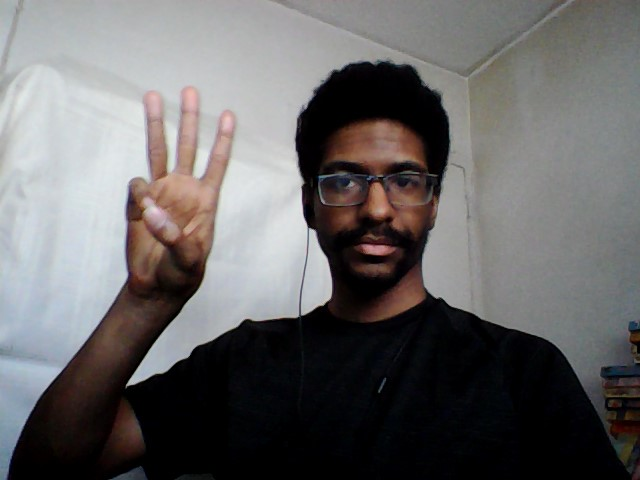w: (120, 82, 242, 300)
